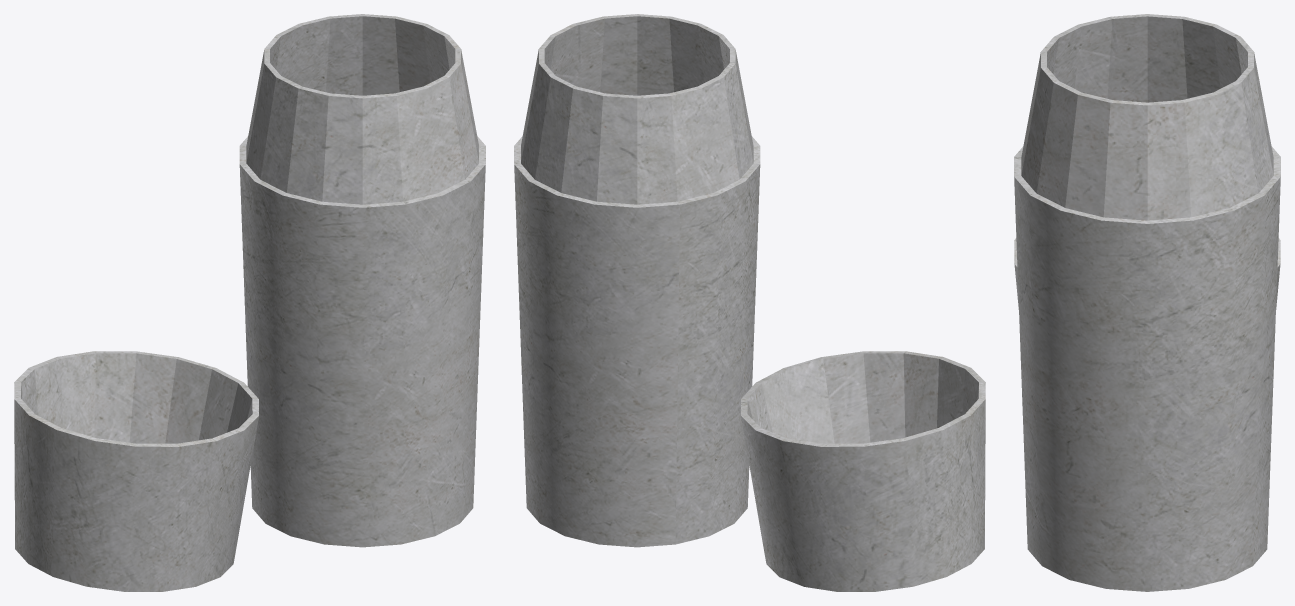
File: Shaker01.FBX
The picture shows the model from 3 angles, left to right: view 1: azimuth 30°, elevation 25°; view 2: azimuth 150°, elevation 25°; view 3: azimuth 270°, elevation 25°; orthographic projection. The views are drawn at different scales.
Visible parts, largest first — view 1: Bot, Top; view 2: Bot, Top; view 3: Bot, Top.
Boxes of the visible parts, x1,y1,x2,y2 form: Bot: (239, 14, 485, 547); Top: (14, 351, 258, 591); Bot: (514, 14, 760, 547); Top: (741, 351, 985, 591); Bot: (1014, 14, 1280, 591); Top: (1014, 238, 1280, 309).
Bounding box in the file's own units: 18.8 × 18.02 × 9.05.
